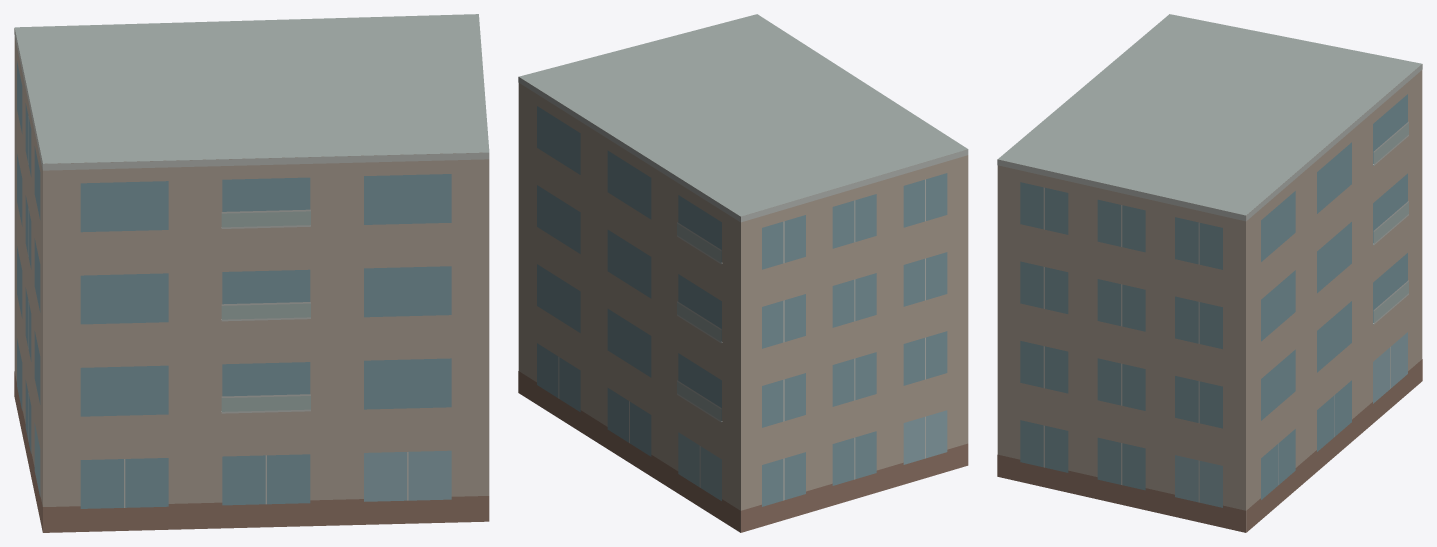
File: survey-upis-32842167.glb
3 views of the same model, side by side, from view 1: azimuth 30°, elevation 25°; view 2: azimuth 150°, elevation 25°; view 3: azimuth 270°, elevation 25° (orthographic). The views are drawn at different scales.
Parts seen in each view (by area): view 1: survey-upis-32842167.tmp; view 2: survey-upis-32842167.tmp; view 3: survey-upis-32842167.tmp.
Part boxes in pixels (x1,y1,x2,y2): survey-upis-32842167.tmp: [14, 14, 489, 532]; survey-upis-32842167.tmp: [518, 14, 968, 532]; survey-upis-32842167.tmp: [997, 14, 1422, 532].
Bounding box in the file's own units: 17.99 × 13.2 × 16.03.
